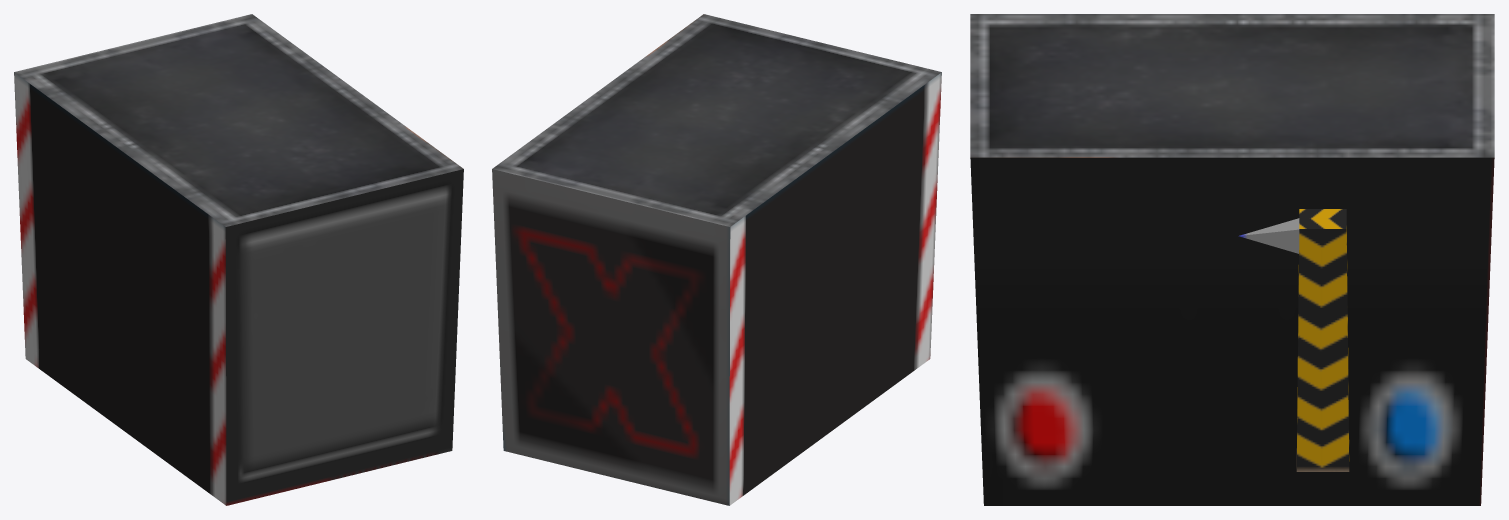
The model's file is Plasma_Cutter.fbx.
3 views of the same model, side by side, from view 1: azimuth 30°, elevation 25°; view 2: azimuth 150°, elevation 25°; view 3: azimuth 270°, elevation 25° (orthographic). The views are drawn at different scales.
Visible parts, largest first — view 1: Plasma_Cutter; view 2: Plasma_Cutter; view 3: Plasma_Cutter.
Boxes of the visible parts, x1,y1,x2,y2 form: Plasma_Cutter: (14,14,463,505); Plasma_Cutter: (492,14,941,505); Plasma_Cutter: (970,14,1494,505).
Bounding box in the file's own units: 31.09 × 30.91 × 41.73.
